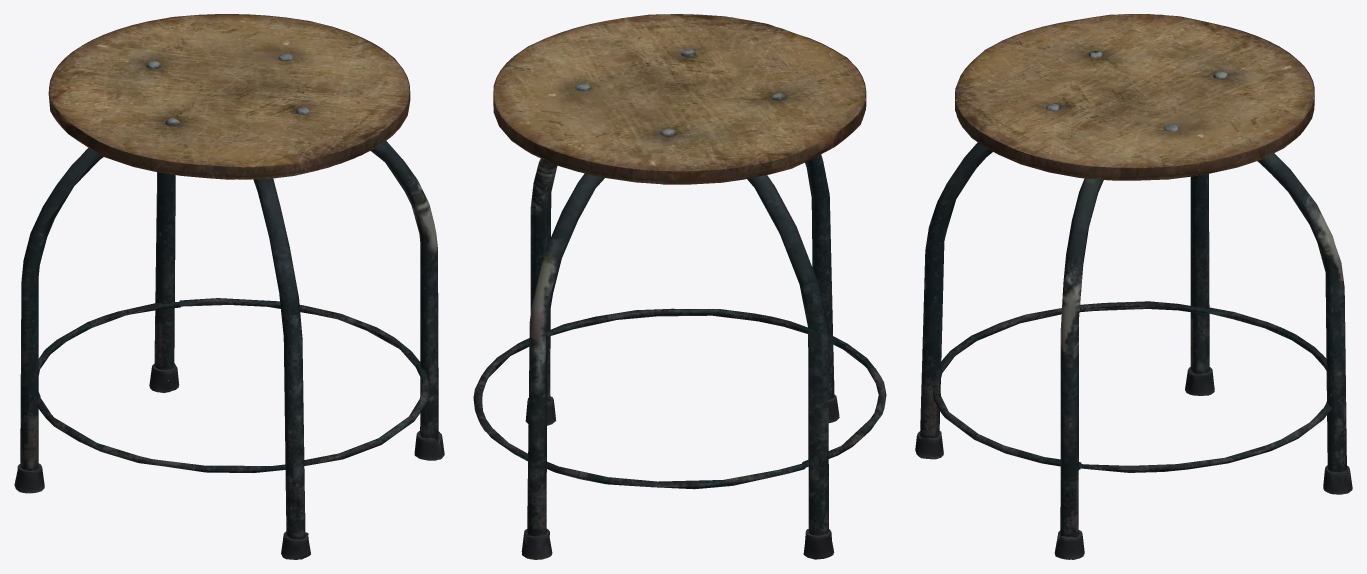
Rendered from metal_stool_02.glb.
The picture shows the model from 3 angles, left to right: view 1: azimuth 30°, elevation 25°; view 2: azimuth 150°, elevation 25°; view 3: azimuth 270°, elevation 25°; orthographic projection. The views are drawn at different scales.
Parts seen in each view (by area): view 1: metal_stool_02; view 2: metal_stool_02; view 3: metal_stool_02.
Boxes of the visible parts, x1=… form: metal_stool_02: x1=14, y1=14, x2=444, y2=559; metal_stool_02: x1=473, y1=14, x2=886, y2=559; metal_stool_02: x1=915, y1=14, x2=1352, y2=559.
Size of the model in its own units: 0.448 by 0.4581 by 0.4724.
1 material, 1 textured.
